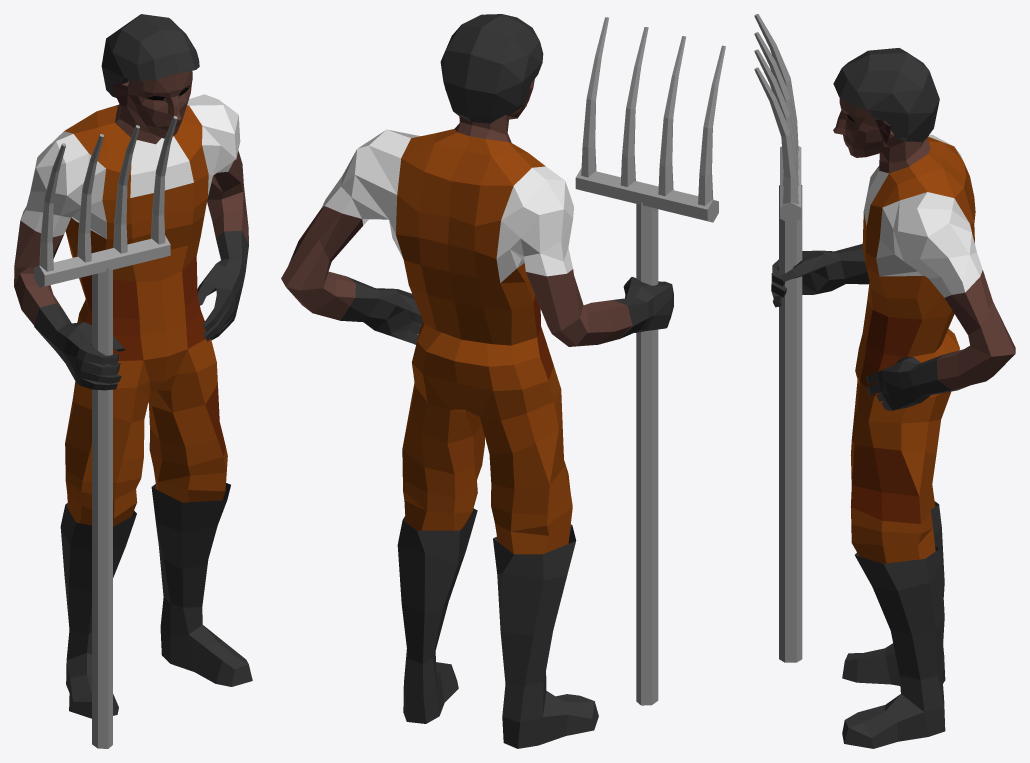
File: Male_pose_03.FBX
3 renders of one model, left to right at view 1: azimuth 30°, elevation 25°; view 2: azimuth 150°, elevation 25°; view 3: azimuth 270°, elevation 25°, orthographic. The views are drawn at different scales.
Parts seen in each view (by area): view 1: Male_pose_03; view 2: Male_pose_03; view 3: Male_pose_03.
Part boxes in pixels (left/top/right/bottom): Male_pose_03: left=14, top=14, right=252, bottom=748; Male_pose_03: left=281, top=14, right=725, bottom=748; Male_pose_03: left=754, top=14, right=1015, bottom=748.
Bounding box in the file's own units: 0.879 × 1.82 × 0.6587.
Materials: 1 (1 with a texture image).
